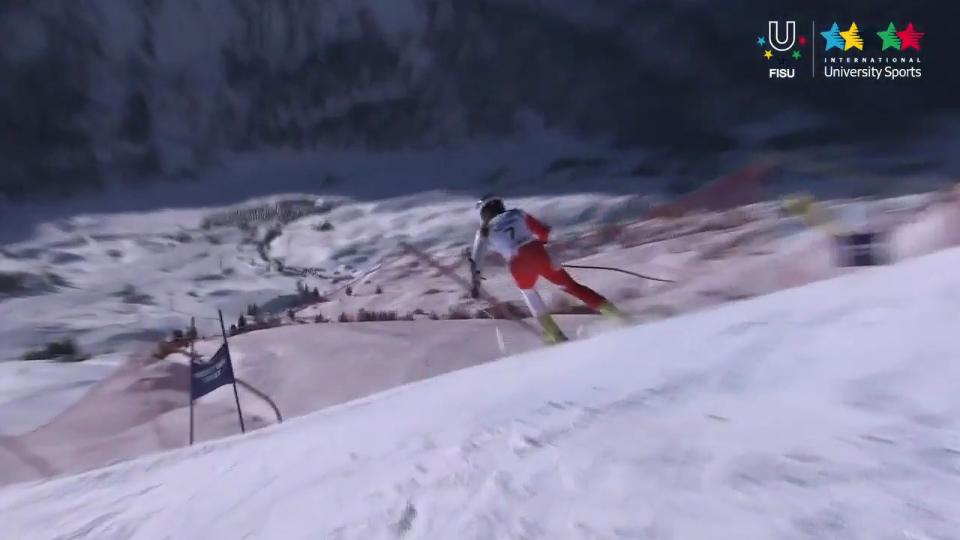gate: (213, 306, 246, 437)
